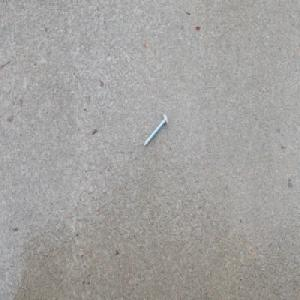Nail: (141, 112, 168, 148)
